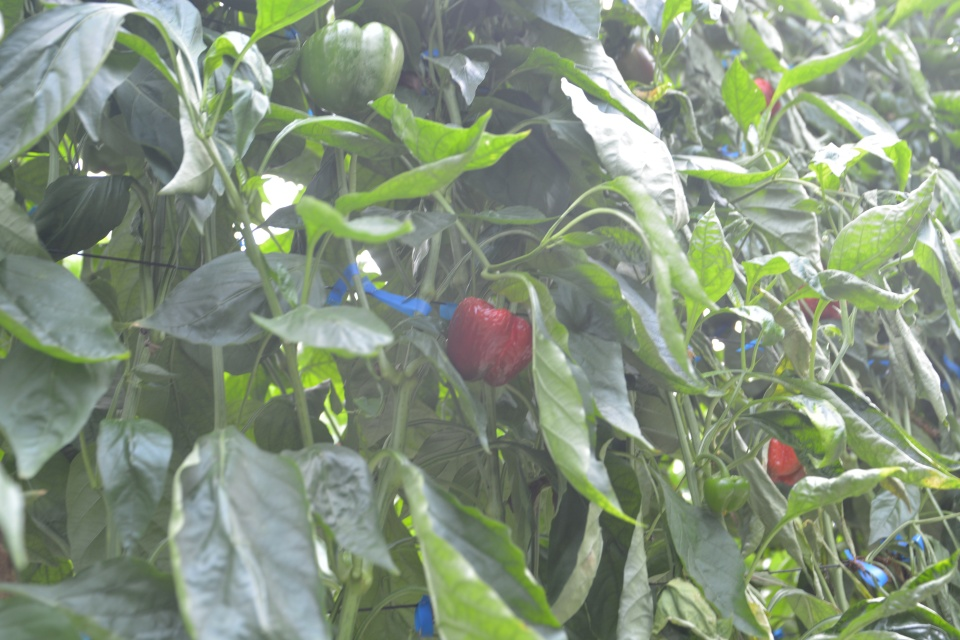fruit: (297, 15, 405, 120), (446, 293, 534, 387), (764, 436, 808, 487), (702, 472, 750, 517), (796, 285, 848, 321)
